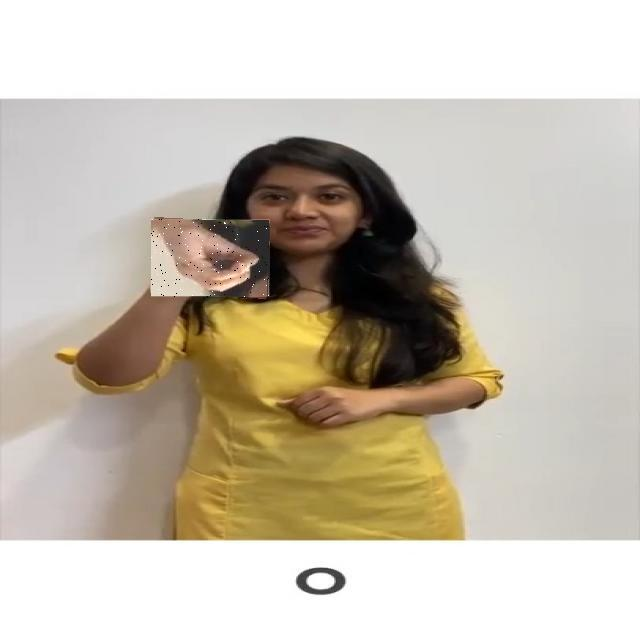O: (151, 219, 270, 297)
